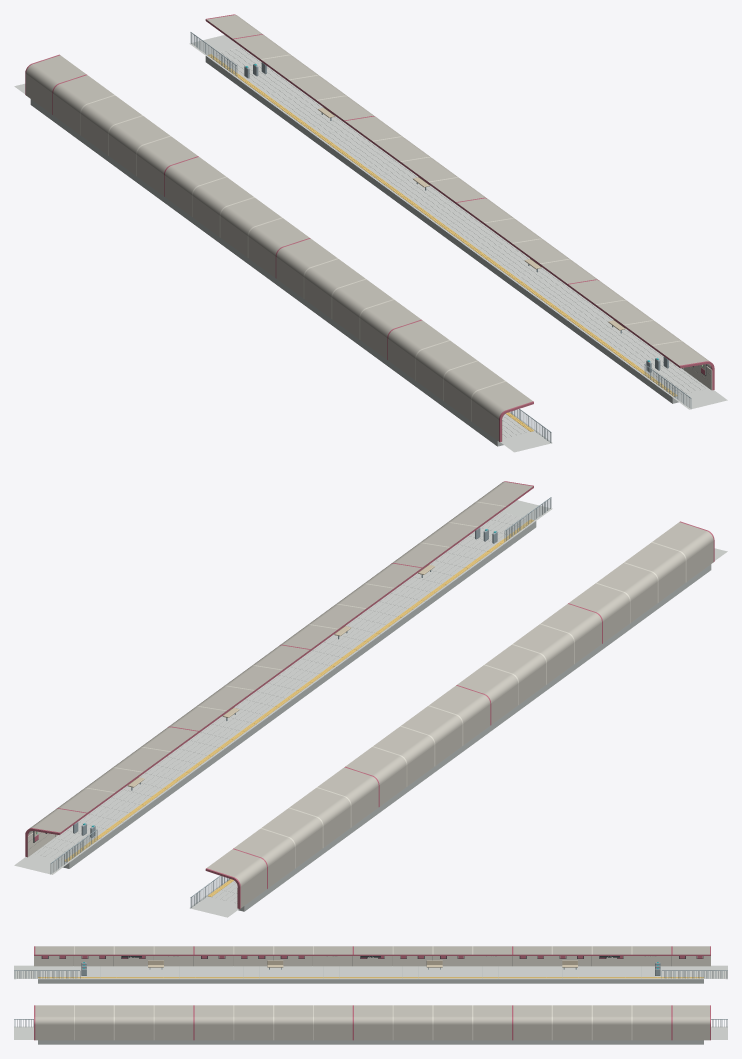
Rendered from station-A3.glb.
The picture shows the model from 3 angles, top to bottom: view 1: azimuth 30°, elevation 25°; view 2: azimuth 150°, elevation 25°; view 3: azimuth 270°, elevation 25°; orthographic projection. The views are drawn at different scales.
Parts seen in each view (by area): view 1: A3_platform_-1_roof, A3_platform_1_tile, A3_platform_1_roof, A3_platform_1_concrete, A3_platform_-1_concrete, A3_platform_1_yellow, A3_platform_-1_cladding, A3_platform_-1_tile, A3_platform_1_cladding; view 2: A3_platform_-1_roof, A3_platform_1_tile, A3_platform_1_roof, A3_platform_1_concrete, A3_platform_-1_concrete, A3_platform_1_yellow, A3_platform_-1_cladding, A3_platform_-1_tile, A3_platform_1_cladding, A3_platform_-1_accent; view 3: A3_platform_1_roof, A3_platform_-1_tile, A3_platform_-1_cladding, A3_platform_-1_roof, A3_platform_-1_concrete, A3_platform_1_concrete, A3_platform_-1_yellow, A3_platform_1_cladding, A3_platform_-1_accent, A3_platform_-1_sand, A3_platform_1_tile, A3_platform_-1_approach_rail_1_steel (+3 smaller).
Boxes of the visible parts, x1,y1,x2,y2 form: A3_platform_-1_roof: (26, 55, 532, 441); A3_platform_1_tile: (189, 35, 727, 409); A3_platform_1_roof: (206, 15, 711, 368); A3_platform_1_concrete: (205, 56, 678, 403); A3_platform_-1_concrete: (30, 99, 503, 446); A3_platform_1_yellow: (208, 54, 704, 396); A3_platform_-1_cladding: (80, 95, 505, 441); A3_platform_-1_tile: (14, 83, 552, 452); A3_platform_1_cladding: (260, 54, 712, 390); A3_platform_-1_roof: (207, 522, 713, 907); A3_platform_1_tile: (14, 500, 552, 874); A3_platform_1_roof: (28, 482, 533, 835); A3_platform_1_concrete: (63, 521, 536, 868); A3_platform_-1_concrete: (238, 564, 711, 911); A3_platform_1_yellow: (35, 519, 533, 861); A3_platform_-1_cladding: (237, 542, 686, 907); A3_platform_-1_tile: (189, 548, 727, 917); A3_platform_1_cladding: (27, 501, 506, 856); A3_platform_-1_accent: (205, 521, 714, 908); A3_platform_1_roof: (35, 1005, 709, 1040); A3_platform_-1_tile: (14, 965, 727, 979); A3_platform_-1_cladding: (34, 946, 710, 966); A3_platform_-1_roof: (35, 946, 709, 965); A3_platform_-1_concrete: (38, 966, 703, 983); A3_platform_1_concrete: (38, 1040, 703, 1044); A3_platform_-1_yellow: (38, 977, 703, 978); A3_platform_1_cladding: (74, 1005, 632, 1040); A3_platform_-1_accent: (34, 946, 710, 958); A3_platform_-1_sand: (148, 960, 577, 967); A3_platform_1_tile: (14, 1026, 727, 1039); A3_platform_-1_approach_rail_1_steel: (661, 970, 727, 978).
Size of the model in its own units: 22.2 by 3.8 by 89.64.
